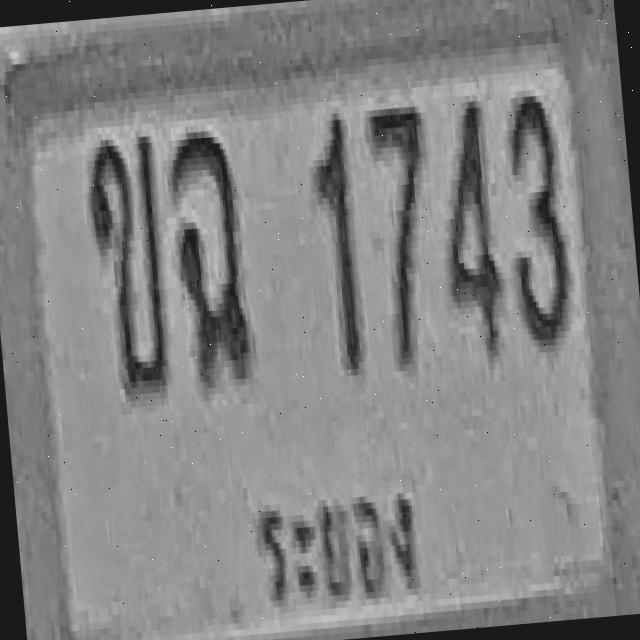1: (307, 109, 365, 374)
11KhorKhai: (83, 130, 172, 396)
18ChorChing: (165, 126, 253, 387)
3: (498, 88, 574, 348)
4: (433, 93, 506, 360)
7: (366, 100, 442, 366)
Rayong: (238, 452, 436, 630)
